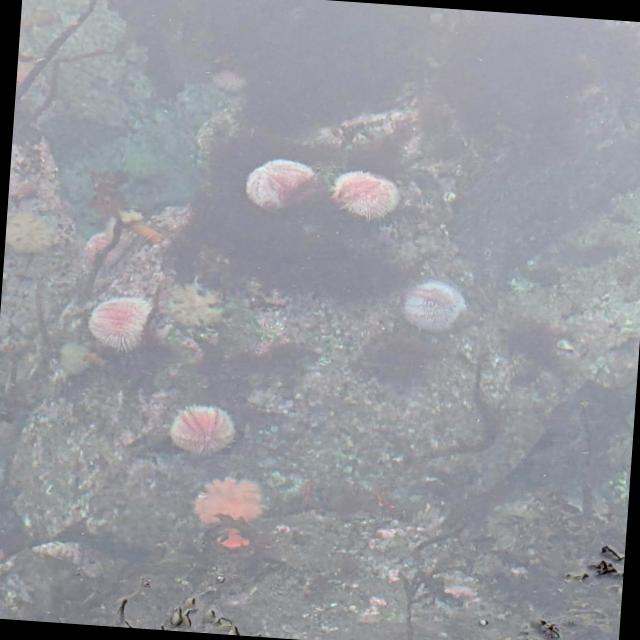Deniz Kestanesi: (244, 156, 320, 214), (85, 294, 155, 354), (166, 401, 238, 458), (328, 169, 402, 224), (400, 278, 468, 334)
